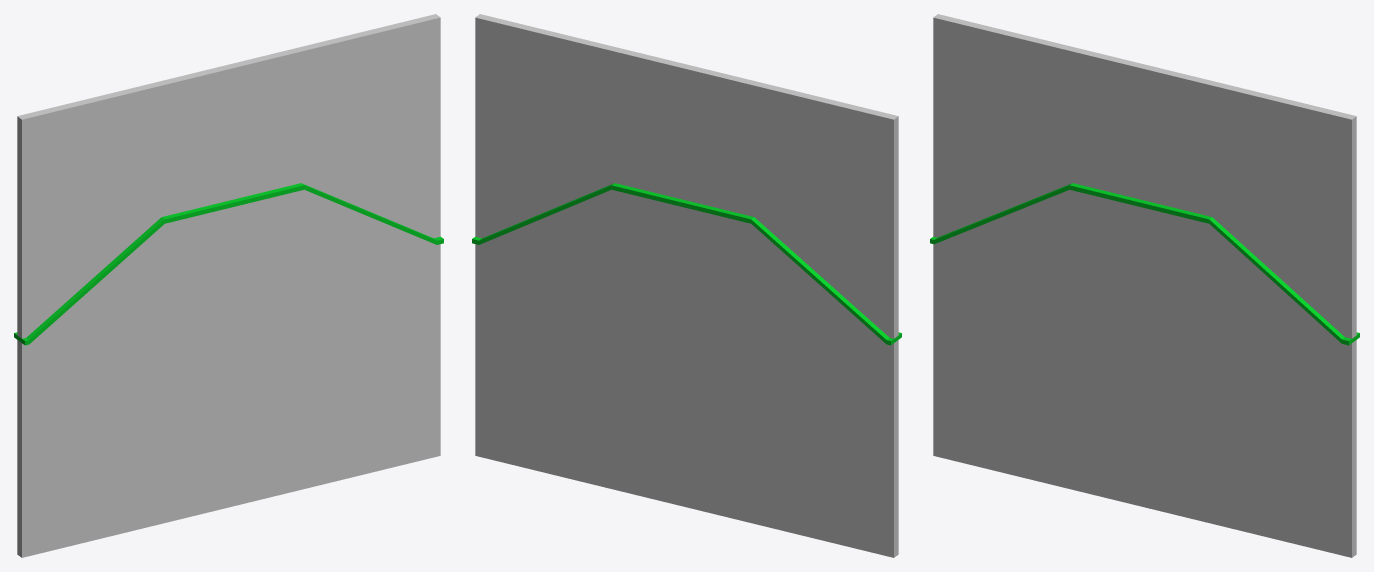
Rendered from HumanDoor.fbx.
3 renders of one model, left to right at view 1: azimuth 30°, elevation 25°; view 2: azimuth 150°, elevation 25°; view 3: azimuth 330°, elevation 25°, orthographic.
Parts seen in each view (by area): view 1: HumanDoor; view 2: HumanDoor; view 3: HumanDoor.
Part boxes in pixels (x1,y1,x2,y2): HumanDoor: (14,14,443,557); HumanDoor: (472,14,901,557); HumanDoor: (930,14,1359,557).
Size of the model in its own units: 1000 by 1000 by 45.91.
